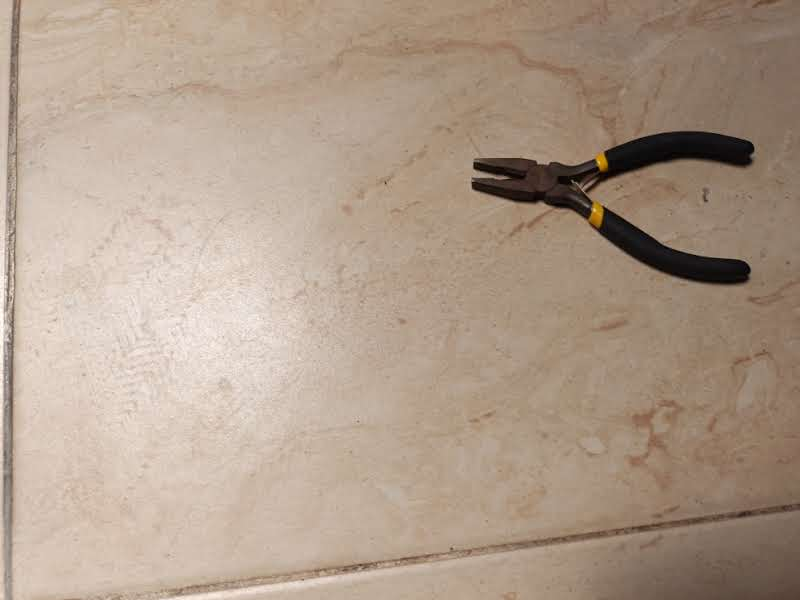Pinzas: (473, 130, 754, 283)
